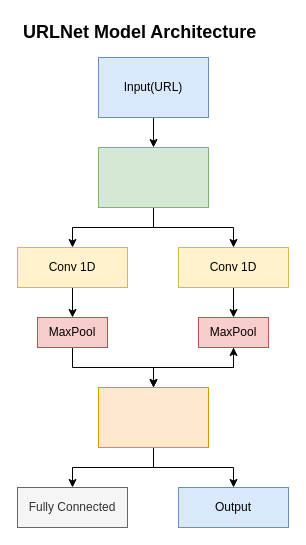
Some shapes in this 306 by 545 pixel diagram are drawn without their labels. The shapes that lost their labels are listed below. From the top down, each one's centre as x and y in pixels, then its label:
point (153, 177): Embedding
point (153, 417): Attention
